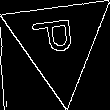P_E: (33, 20, 84, 63)
